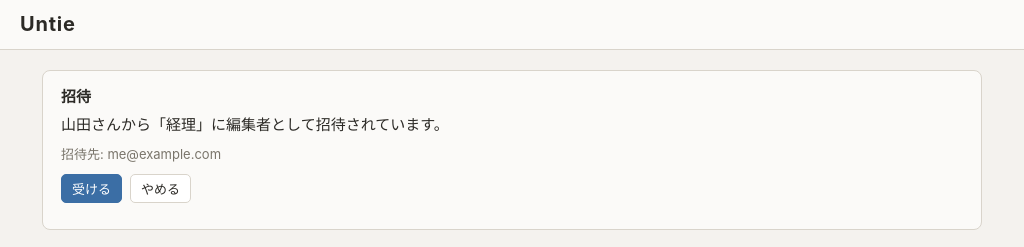
InvitePage › 受けるときに 410 (期限切れ) なら、期限切れの画面にする
Step 1. Click the button "受ける" → (92, 189), box [61,174,122,203]
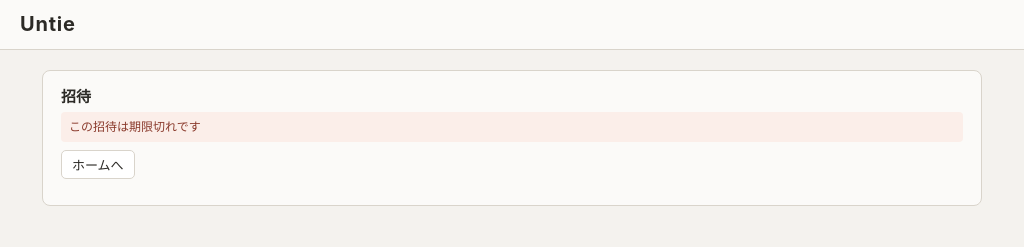
Now the text "この招待は期限切れです" is shown, box [61,112,963,142]
